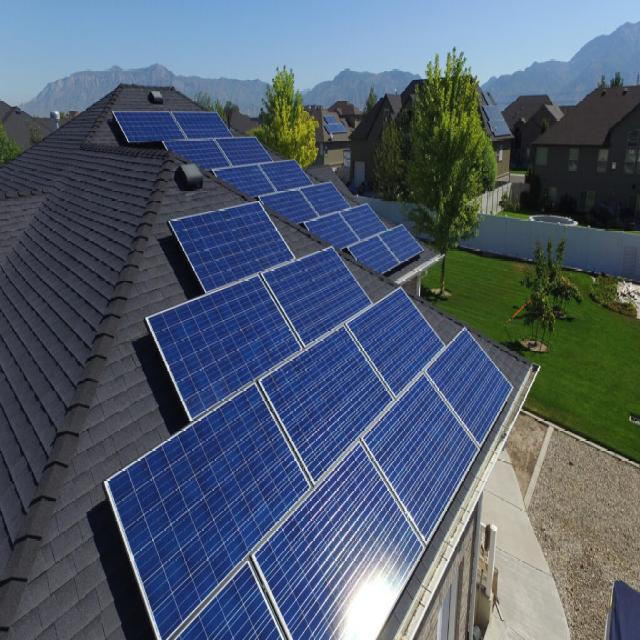clean-solar-panel: (105, 201, 511, 640), (114, 111, 423, 275)
